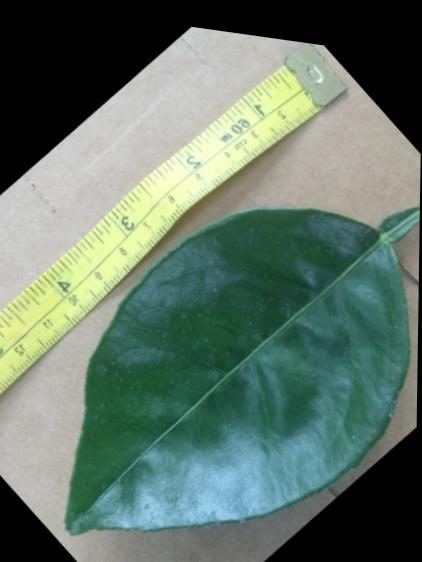Healthy Citrus: (0, 80, 421, 562), (34, 99, 421, 562)
